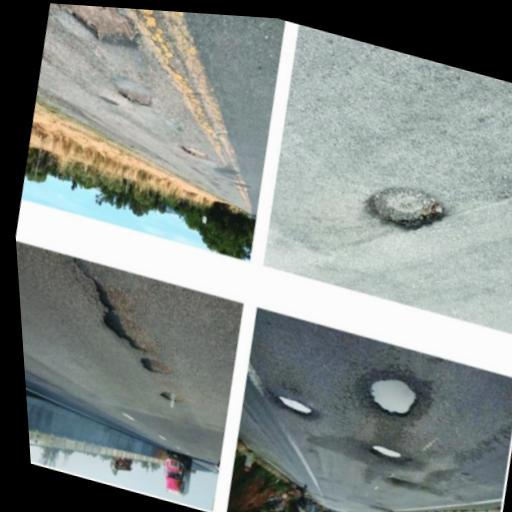pothole: (72, 256, 159, 354), (363, 182, 446, 231), (56, 4, 140, 48), (364, 374, 420, 418), (274, 392, 315, 416), (115, 86, 152, 106), (368, 441, 403, 459), (138, 355, 171, 374), (178, 143, 208, 157), (158, 389, 183, 401)
